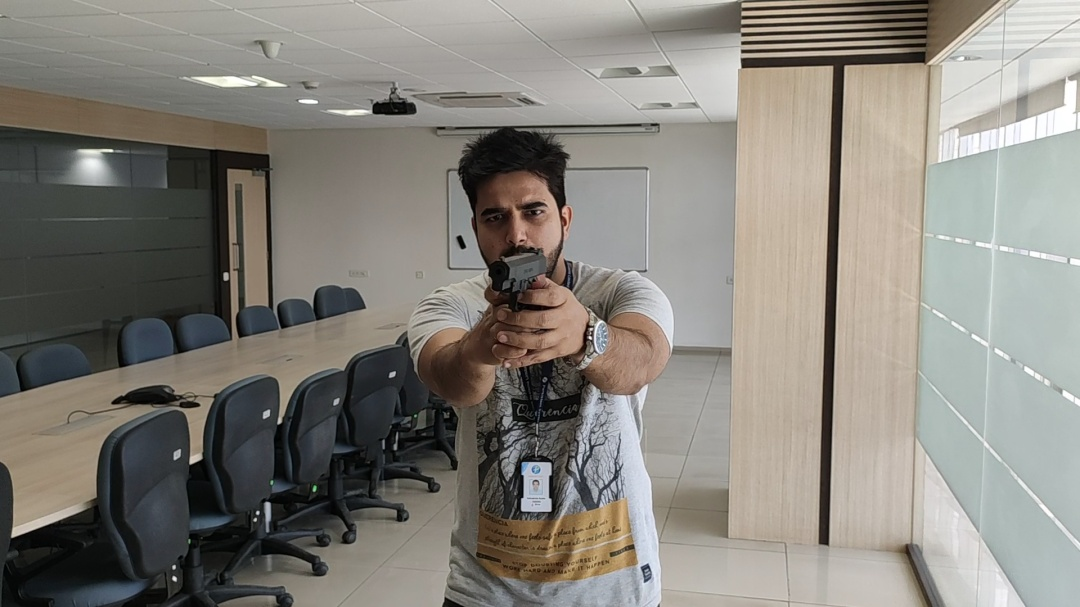gun: (486, 247, 551, 299)
